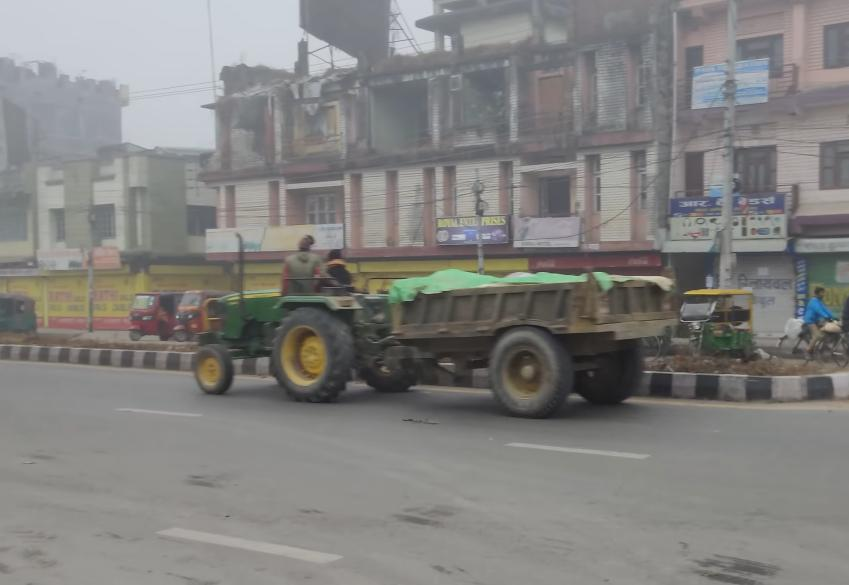auto_rickshaw: (170, 289, 230, 343), (128, 287, 181, 345), (0, 292, 42, 341)
e-rickshaw: (678, 284, 756, 367)
tractor: (196, 229, 678, 424)
